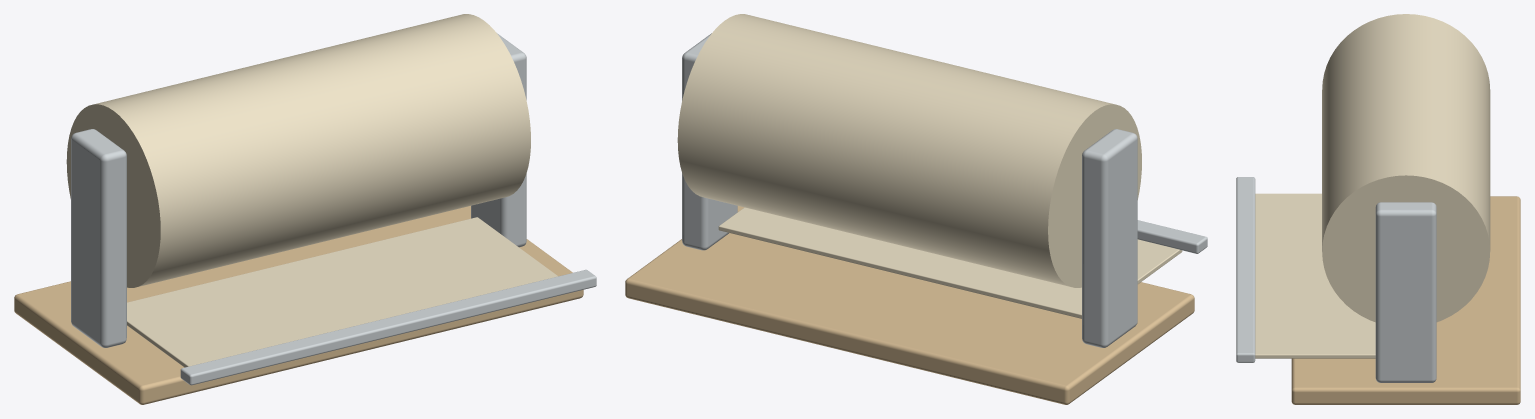
Rendered from candlemaking-and-soap-workshop-wrapping-paper-dispense-14e5632b__30686.glb.
3 views of the same model, side by side, from view 1: azimuth 30°, elevation 25°; view 2: azimuth 150°, elevation 25°; view 3: azimuth 270°, elevation 25° (orthographic). The views are drawn at different scales.
Visible parts, largest first — view 1: wrapping-paper-dispenser; view 2: wrapping-paper-dispenser; view 3: wrapping-paper-dispenser.
Part boxes in pixels (bbox=[...]): wrapping-paper-dispenser: bbox=[14, 14, 596, 404]; wrapping-paper-dispenser: bbox=[625, 14, 1207, 404]; wrapping-paper-dispenser: bbox=[1236, 14, 1520, 404].
Bounding box in the file's own units: 0.6 × 0.31 × 0.3725.
